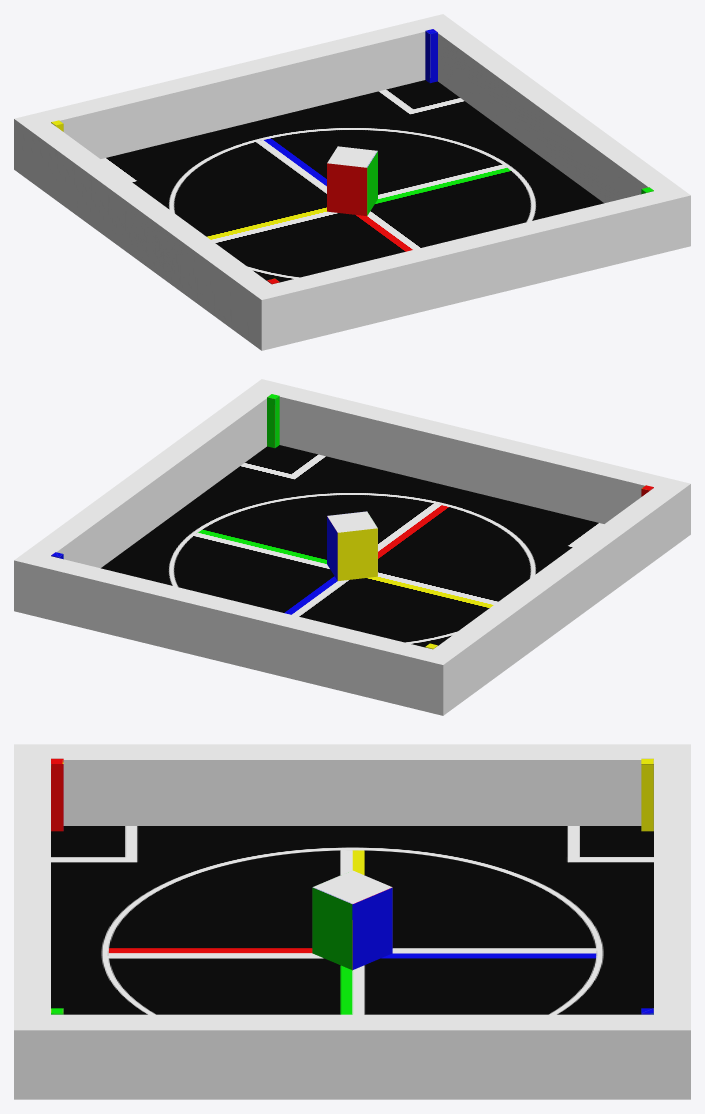
The model's file is arena.dae.
3 views of the same model, one above another, from view 1: azimuth 30°, elevation 25°; view 2: azimuth 150°, elevation 25°; view 3: azimuth 270°, elevation 25° (orthographic). The views are drawn at different scales.
Parts seen in each view (by area): view 1: Arena, Center, Corners; view 2: Arena, Center, Corners; view 3: Arena, Center, Corners.
Boxes of the visible parts, x1,y1,x2,y2 form: Arena: [14, 14, 690, 350]; Center: [327, 146, 377, 215]; Corners: [51, 29, 653, 284]; Arena: [14, 379, 690, 715]; Center: [327, 511, 377, 580]; Corners: [51, 394, 653, 649]; Arena: [14, 744, 690, 1099]; Center: [312, 870, 392, 970]; Corners: [51, 758, 653, 1014].
Bounding box in the file's own units: 2.74 × 2.74 × 0.3148.
